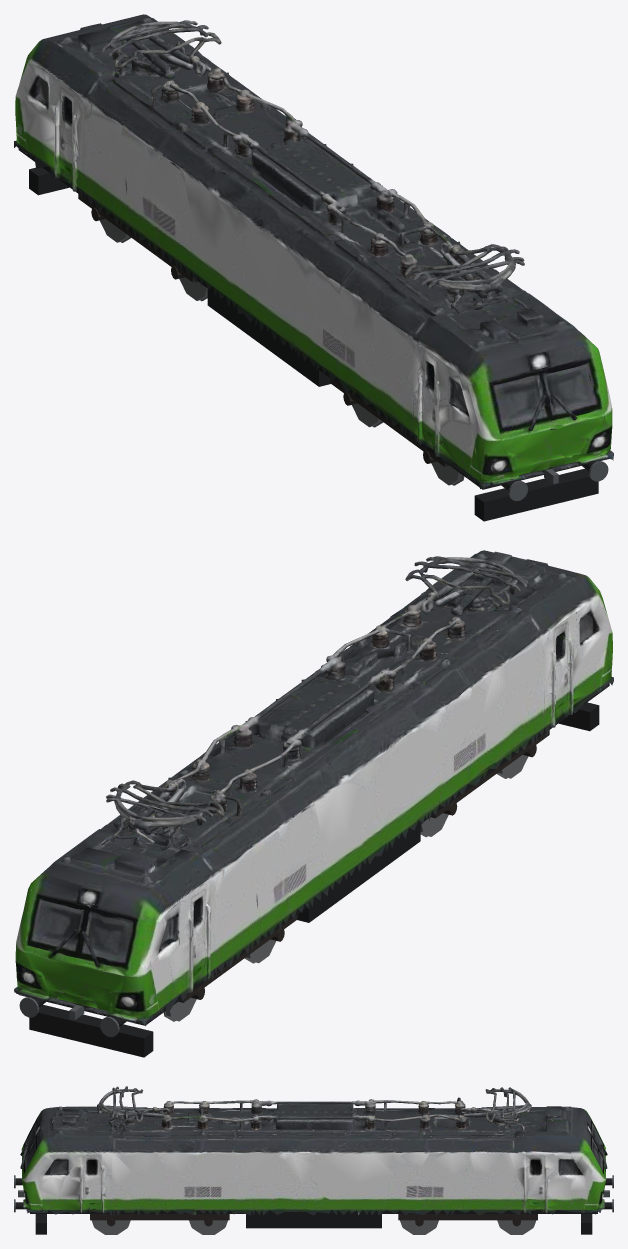
3 renders of one model, top to bottom at view 1: azimuth 30°, elevation 25°; view 2: azimuth 150°, elevation 25°; view 3: azimuth 270°, elevation 25°, orthographic. The views are drawn at different scales.
Visible parts, largest first — view 1: sr3_kori, Sr3_plough-1, Sr3_tank, sr3_frame, Sr3_plough1; view 2: sr3_kori, Sr3_plough1, Sr3_tank, sr3_frame, Sr3_plough-1; view 3: sr3_kori, Sr3_tank, sr3_frame, Bogie_F_side1, Bogie_R_side1, Wheel_R2_wR, Wheel_F1_wR, Wheel_F2_wR, Wheel_R1_wR, Sr3_plough1, Sr3_plough-1.
Part boxes in pixels (x1=…): sr3_kori: x1=14, y1=14, x2=613, y2=488; Sr3_plough-1: x1=474, y1=468, x2=598, y2=521; Sr3_tank: x1=207, y1=289, x2=330, y2=386; sr3_frame: x1=18, y1=131, x2=608, y2=489; Sr3_plough1: x1=29, y1=167, x2=69, y2=195; sr3_kori: x1=14, y1=550, x2=613, y2=1026; Sr3_plough1: x1=29, y1=1004, x2=153, y2=1057; Sr3_tank: x1=297, y1=824, x2=420, y2=922; sr3_frame: x1=19, y1=670, x2=609, y2=1025; Sr3_plough-1: x1=558, y1=702, x2=599, y2=731; sr3_kori: x1=20, y1=1086, x2=607, y2=1216; Sr3_tank: x1=246, y1=1214, x2=381, y2=1228; sr3_frame: x1=30, y1=1171, x2=597, y2=1213; Bogie_F_side1: x1=90, y1=1214, x2=229, y2=1220; Bogie_R_side1: x1=398, y1=1214, x2=537, y2=1220; Wheel_R2_wR: x1=497, y1=1199, x2=535, y2=1234; Wheel_F1_wR: x1=92, y1=1220, x2=130, y2=1234; Wheel_F2_wR: x1=189, y1=1220, x2=227, y2=1234; Wheel_R1_wR: x1=400, y1=1220, x2=438, y2=1234; Sr3_plough1: x1=581, y1=1214, x2=592, y2=1234; Sr3_plough-1: x1=35, y1=1214, x2=46, y2=1234.
Size of the model in its own units: 3.01 by 4.25 by 18.49.
5 materials, 1 textured.
